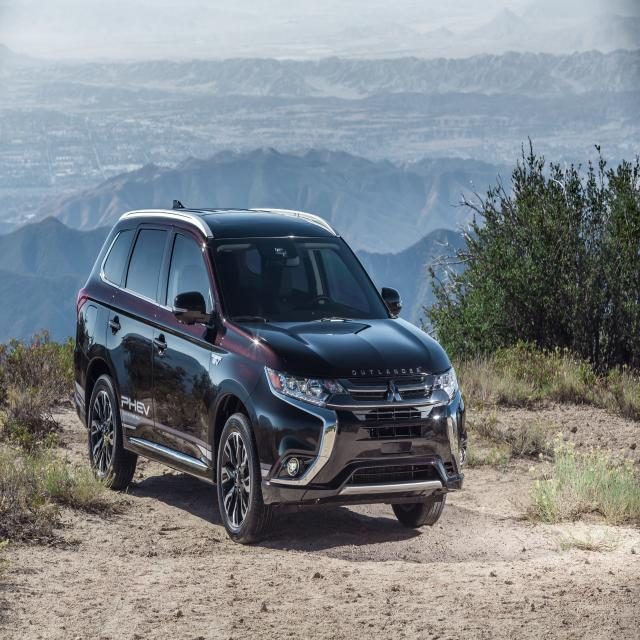light_vehicle: (72, 202, 467, 543)
